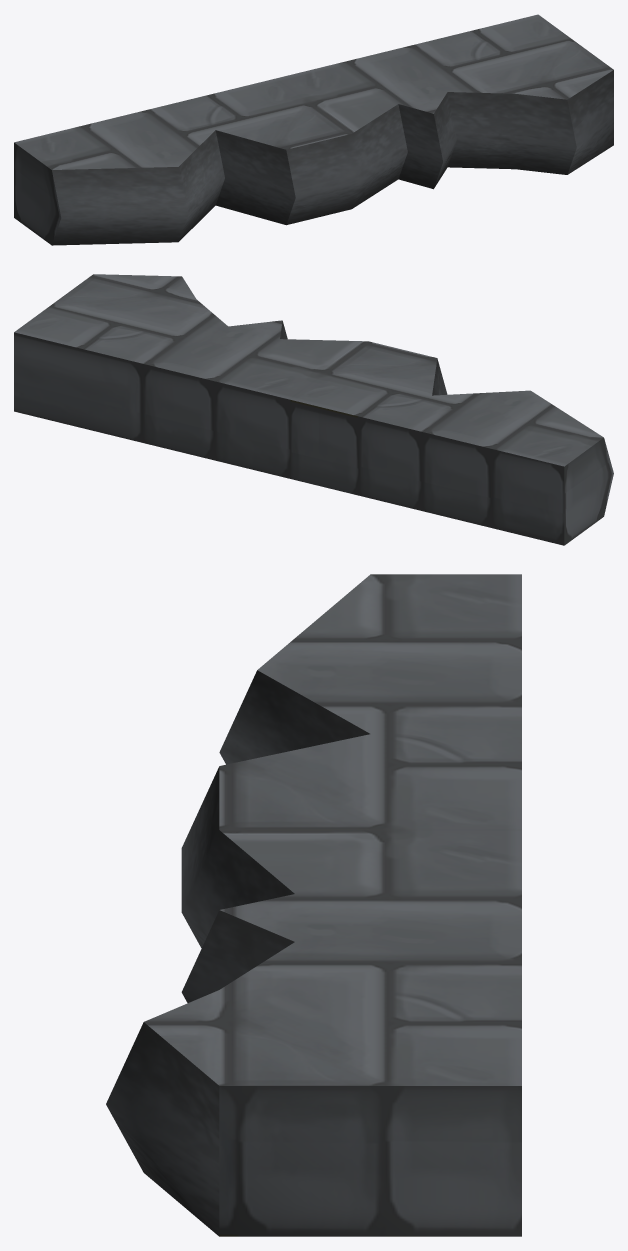
File: FloorBrokenEdge.001.fbx
3 views of the same model, one above another, from view 1: azimuth 30°, elevation 25°; view 2: azimuth 150°, elevation 25°; view 3: azimuth 270°, elevation 25° (orthographic). The views are drawn at different scales.
Visible parts, largest first — view 1: FloorBrokenEdge.001; view 2: FloorBrokenEdge.001; view 3: FloorBrokenEdge.001.
Boxes of the visible parts, <box> form: FloorBrokenEdge.001: <box>14,14,613,245</box>; FloorBrokenEdge.001: <box>14,274,613,545</box>; FloorBrokenEdge.001: <box>106,574,521,1236</box>.
Size of the model in its own units: 400 by 55 by 138.
